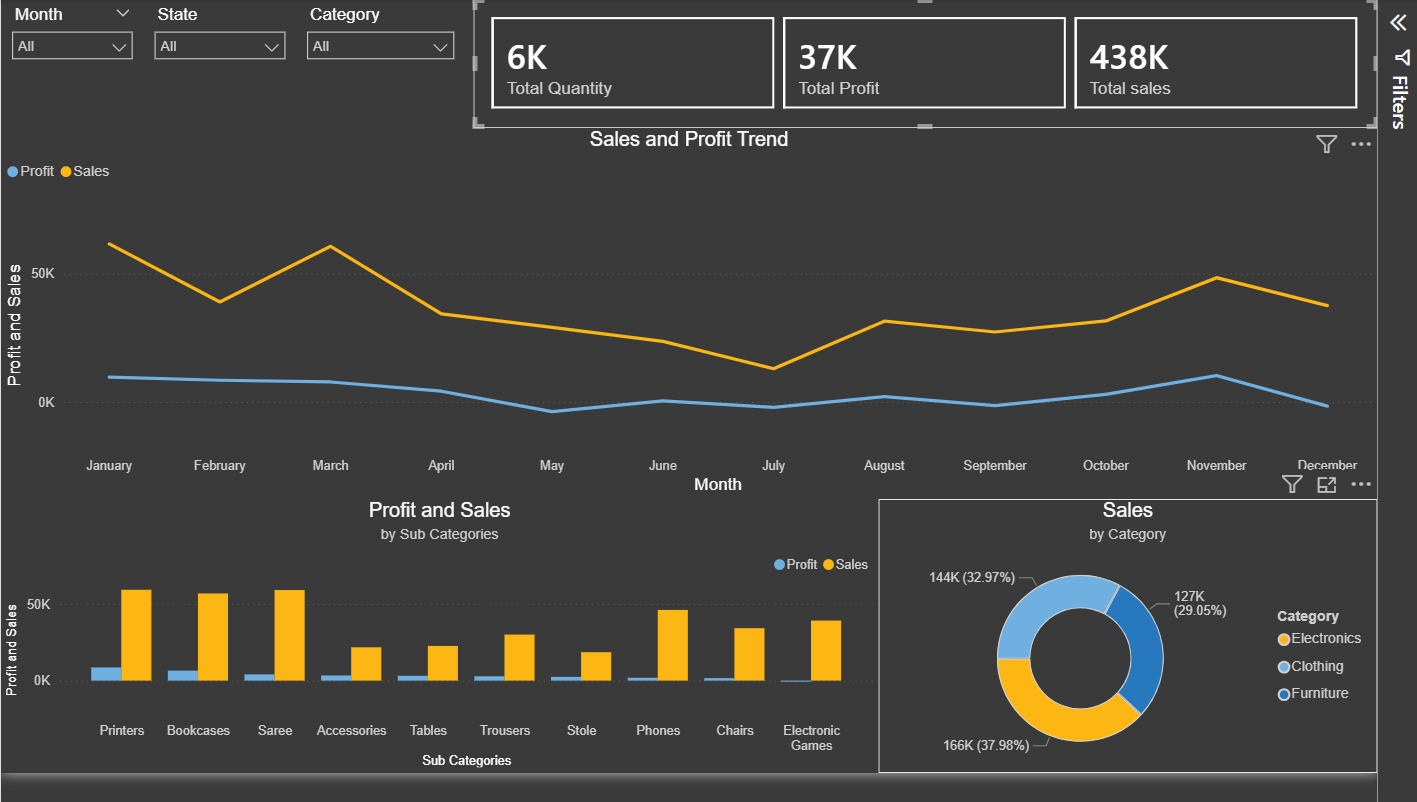

The dashboard page shown, as its layout file describes it:
{"tool":"powerbi","page":{"name":"Page 1","canvas":[1280,720],"ordinal":0},"visuals":[{"type":"lineChart","title":"Sales and Profit Trend ","fields":{"Y":["Sum(Details.Profit)","Sum(Details.Sales)"],"Category":["Orders.Order Date.Variation.Date Hierarchy.Month"]},"box":[0,119.8,1280.2,345.3],"z":0},{"type":"donutChart","fields":{"Category":["Details.Category"],"Y":["Sum(Details.Sales)"]},"box":[816.3,465.1,464,254.7],"z":1000},{"type":"clusteredColumnChart","fields":{"Y":["Sum(Details.Profit)","Sum(Details.Amount)"],"Category":["Details.Sub-Category"]},"box":[0,465.1,816.3,254.7],"z":2000},{"type":"cardVisual","fields":{"Data":["Details.Total Quantity","Details.Total Profit","Details.Total sales"]},"box":[439.5,0,840.7,119.8],"z":3002},{"type":"slicer","fields":{"Values":["Details.Category"]},"box":[274.4,0,157,119.8],"z":3003},{"type":"slicer","fields":{"Values":["Orders.State"]},"box":[132.6,0,141.9,119.8],"z":3004},{"type":"slicer","fields":{"Values":["Orders.Order Date.Variation.Date Hierarchy.Month"]},"box":[0,0,132.6,119.8],"z":3005}]}

Visuals, with their boxes on the page's 1280x720 design canvas (x1, y1, x2, y2). These are canvas units, not pixel positions in the 1417x802 screenshot, which may show the page scaled, cropped or inside an application window:
"Sales and Profit Trend " lineChart: <region>0, 120, 1280, 465</region>
donutChart - Details.Category x Sum(Details.Sales): <region>816, 465, 1280, 720</region>
clusteredColumnChart - Sum(Details.Profit) x Sum(Details.Amount): <region>0, 465, 816, 720</region>
cardVisual - Details.Total Quantity x Details.Total Profit: <region>440, 0, 1280, 120</region>
slicer - Details.Category: <region>274, 0, 431, 120</region>
slicer - Orders.State: <region>133, 0, 274, 120</region>
slicer - Orders.Order Date.Variation.Date Hierarchy.Month: <region>0, 0, 133, 120</region>
